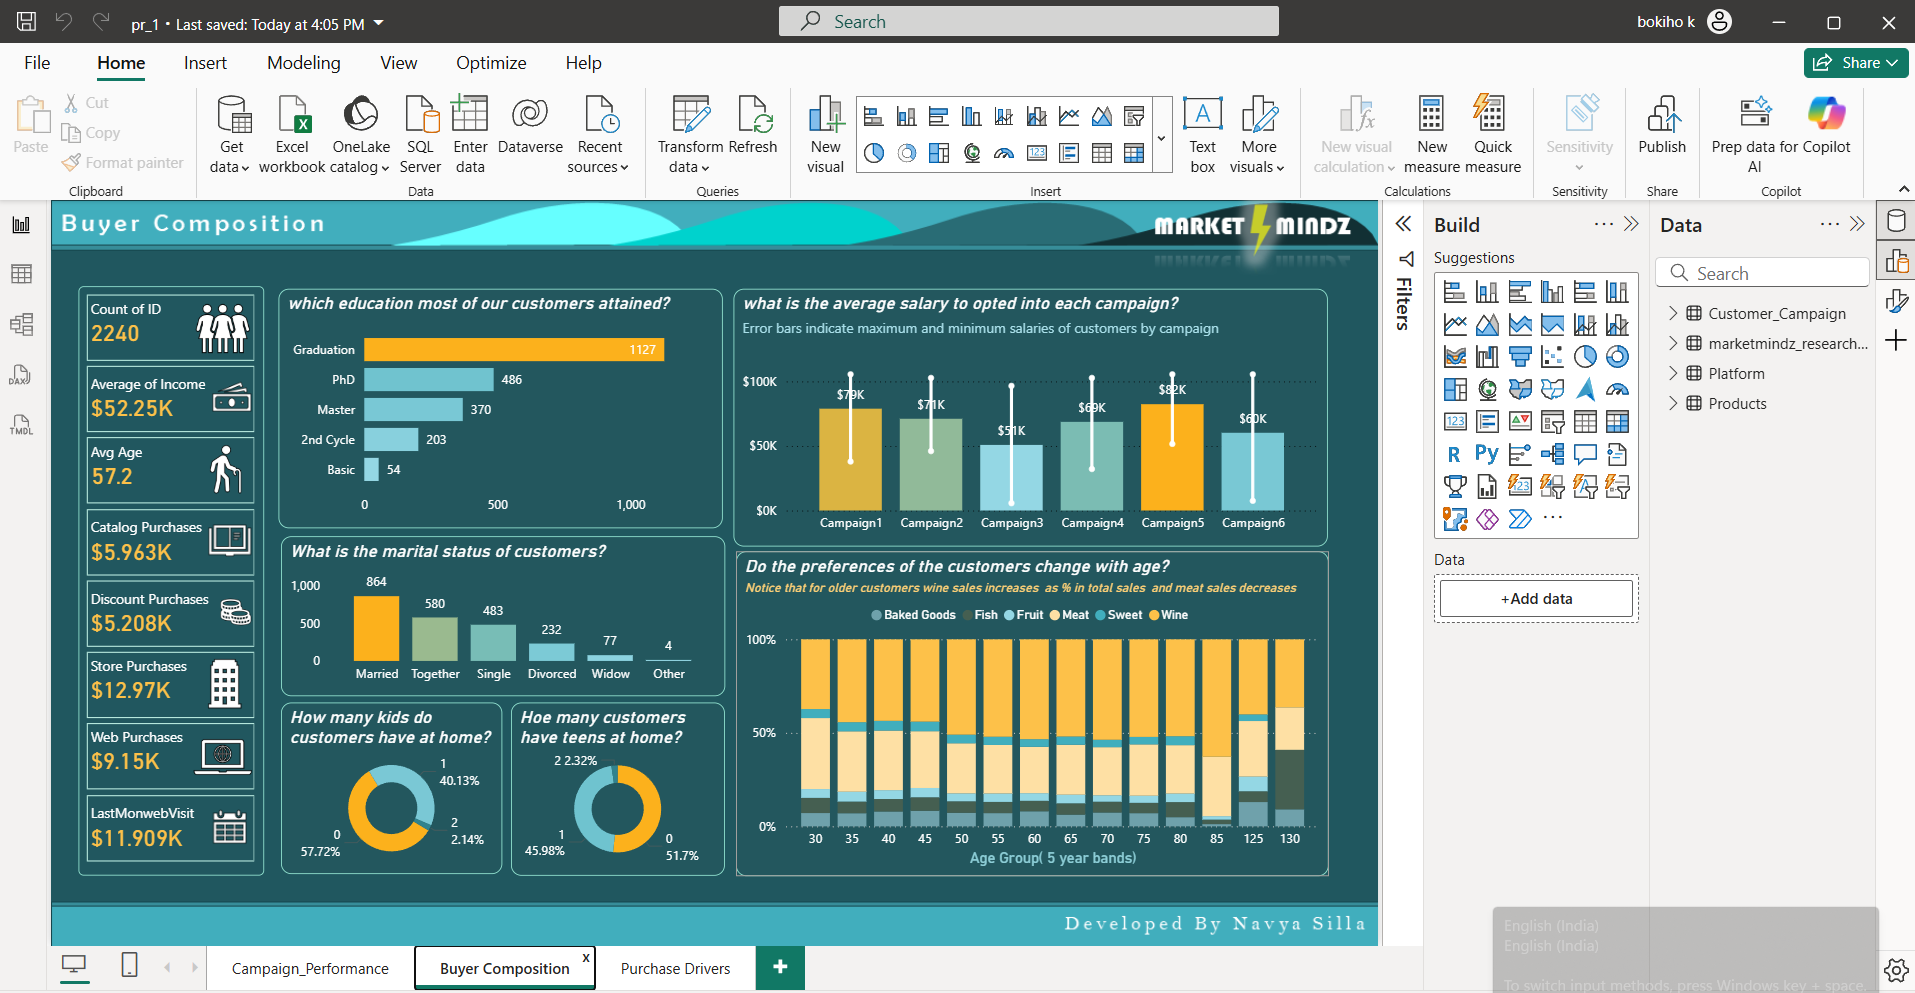

Layout of this report page (visuals, bound fields, positions):
{"tool":"powerbi","page":{"name":"Buyer  Composition","canvas":[1280,720],"ordinal":1},"visuals":[{"type":"clusteredBarChart","title":"which education most of our customers attained?","fields":{"Category":["marketmindz_research_data.Education"],"Y":["CountNonNull(marketmindz_research_data.ID)"]},"box":[219.4,85.8,429,231.1],"z":0},{"type":"clusteredColumnChart","title":"what is the average salary to opted into each campaign?","fields":{"Category":["Customer_Campaign.Campaign"],"Y":["Avg(marketmindz_research_data. Income )"]},"box":[658.6,85.2,573.4,248.4],"z":1000},{"type":"columnChart","title":"What is the marital status of customers?","fields":{"Category":["marketmindz_research_data.Marital_Status"],"Y":["CountNonNull(marketmindz_research_data.ID)"]},"box":[221.7,324.1,429,154.5],"z":2000},{"type":"cardVisual","fields":{"Data":["CountNonNull(marketmindz_research_data.ID)","Avg(marketmindz_research_data. Income )","Avg(marketmindz_research_data.Age)","Sum(marketmindz_research_data.NumCatalogPurchases)","Sum(marketmindz_research_data.NumDealsPurchases)","Sum(marketmindz_research_data.NumStorePurchases)","Sum(marketmindz_research_data.NumWebPurchases)","Sum(marketmindz_research_data.NumWebVisitsMonth)"]},"box":[26,83.7,178.9,568.4],"z":3000},{"type":"donutChart","title":"How many kids do customers have at home?","fields":{"Category":["marketmindz_research_data.Kidhome"],"Y":["CountNonNull(marketmindz_research_data.ID)"]},"box":[222.2,484.8,213.5,165.9],"z":4000},{"type":"donutChart","title":"Hoe many customers have teens at home?","fields":{"Category":["marketmindz_research_data.Teenhome"],"Y":["CountNonNull(marketmindz_research_data.ID)"]},"box":[444.4,484.8,206.3,167.4],"z":5000},{"type":"hundredPercentStackedColumnChart","title":"Do the preferences of the customers change with age?","fields":{"Y":["Sum(Products.Total_Sales)"],"Series":["Products.Product"],"Category":["marketmindz_research_data.Age Group"]},"box":[660.8,338.8,572,313.4],"z":6000}]}

Visuals, with their boxes on the page's 1280x720 design canvas (x1, y1, x2, y2). These are canvas units, not pixel positions in the 1915x993 screenshot, which may show the page scaled, cropped or inside an application window:
"which education most of our customers attained?" clusteredBarChart: BBox(219, 86, 648, 317)
"what is the average salary to opted into each campaign?" clusteredColumnChart: BBox(659, 85, 1232, 334)
"What is the marital status of customers?" columnChart: BBox(222, 324, 651, 479)
cardVisual - CountNonNull(marketmindz_research_data.ID) x Avg(marketmindz_research_data. Income ): BBox(26, 84, 205, 652)
"How many kids do customers have at home?" donutChart: BBox(222, 485, 436, 651)
"Hoe many customers have teens at home?" donutChart: BBox(444, 485, 651, 652)
"Do the preferences of the customers change with age?" hundredPercentStackedColumnChart: BBox(661, 339, 1233, 652)
